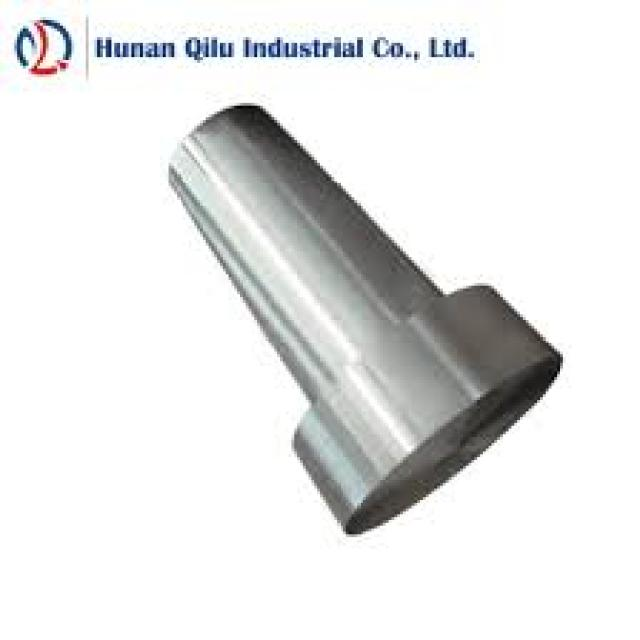Turning: (122, 94, 587, 567)
